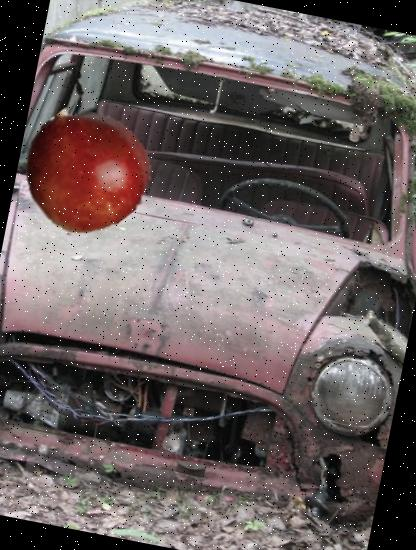Nectarine: (12, 96, 159, 244)
